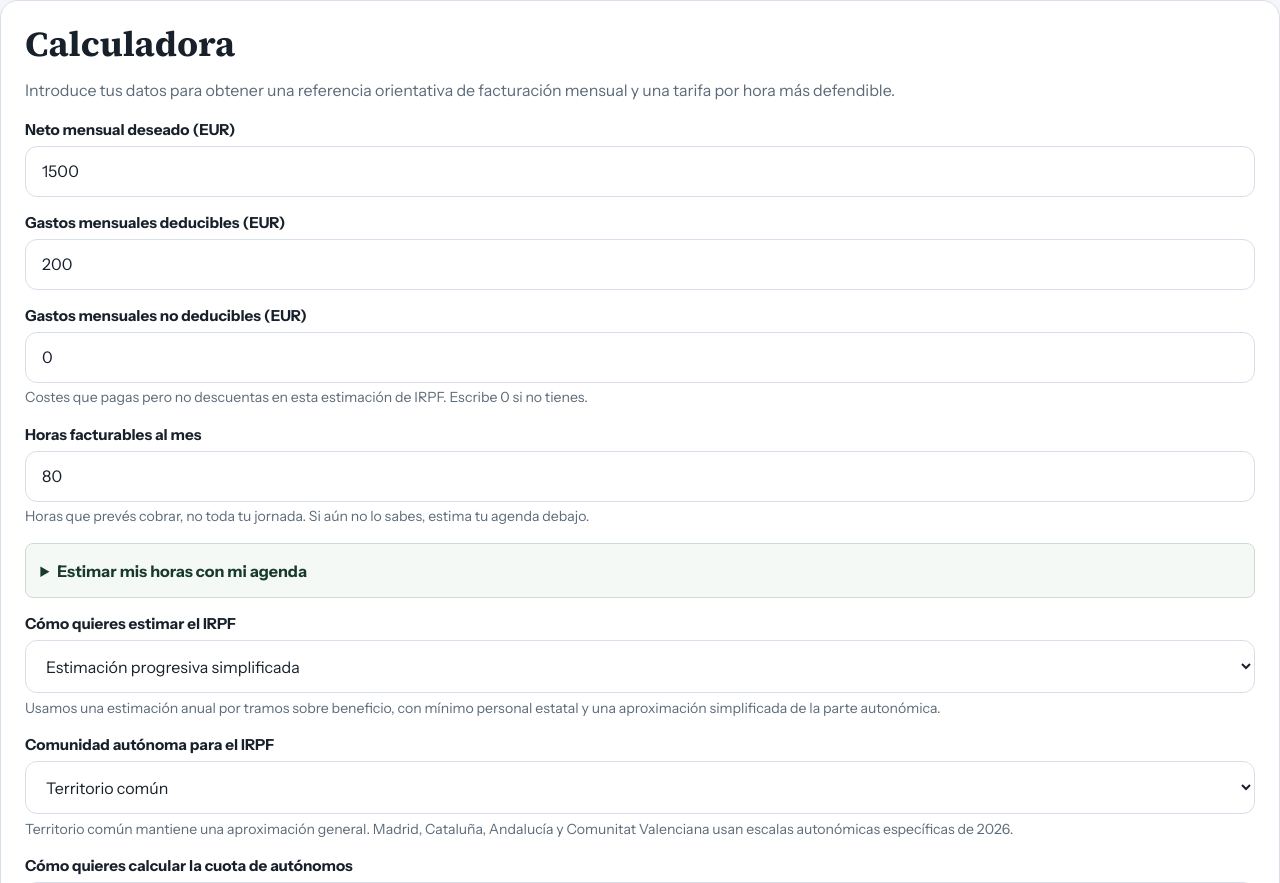
Test: CalculatorForm › preserves an invalid expense and focuses it after submission
Replace the text in the number field labelled "Gastos mensuales deducibles (EUR)" with "-100" at (640, 264), box [25,239,1255,290]
(page scrolled)
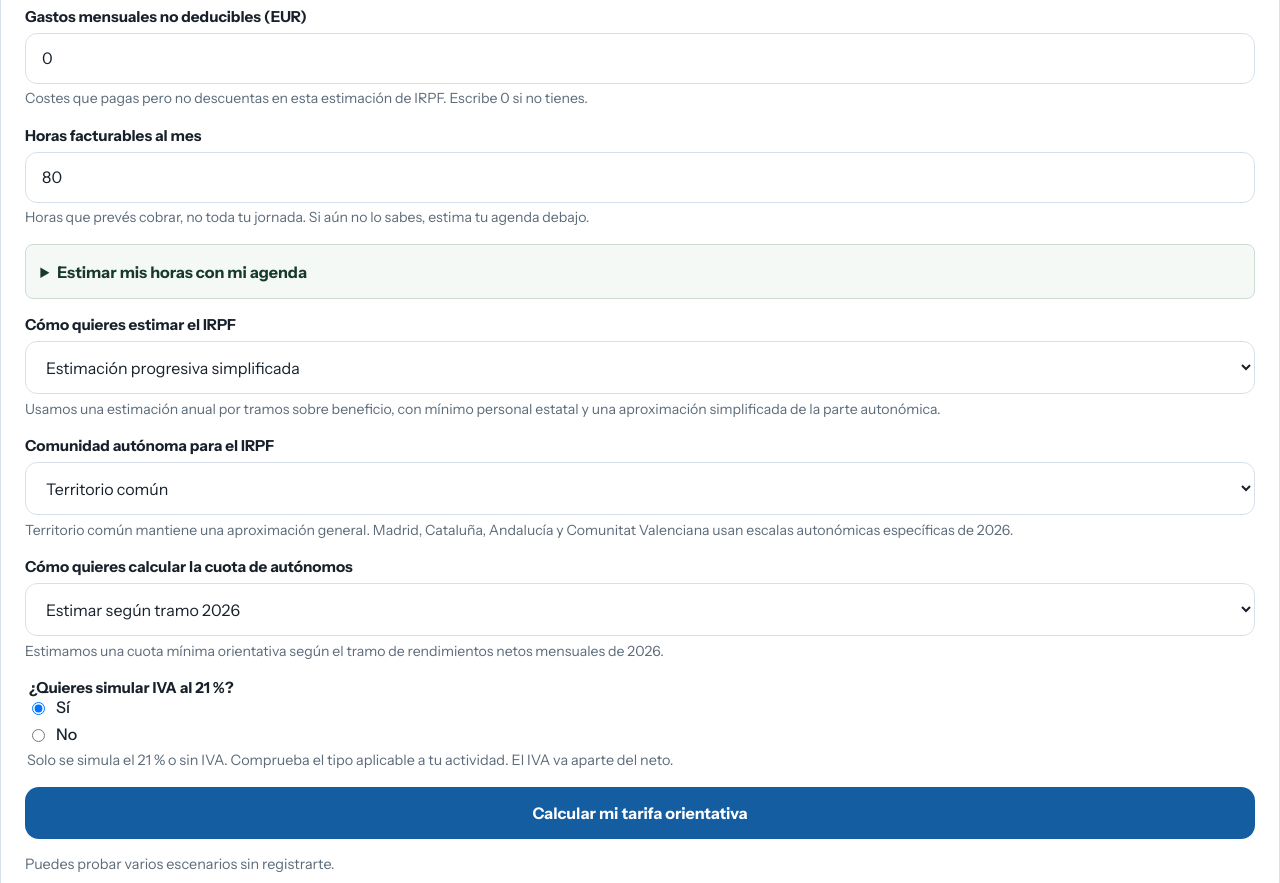
Click the button "Calcular mi tarifa orientativa" at (640, 813), box [25,787,1255,839]
(page scrolled)
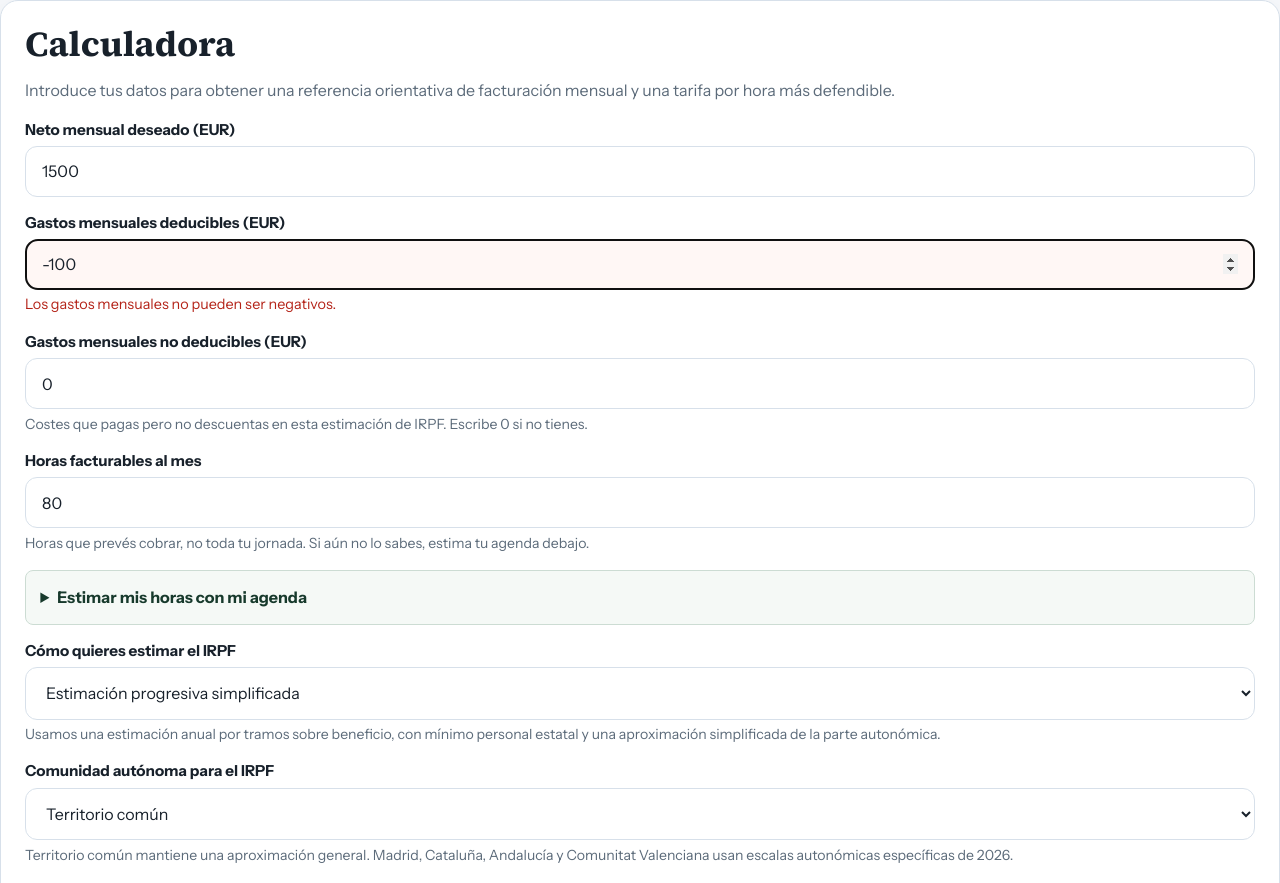
Now the text "Los gastos mensuales no pueden ser negativos." is shown, box [25,296,336,314]
